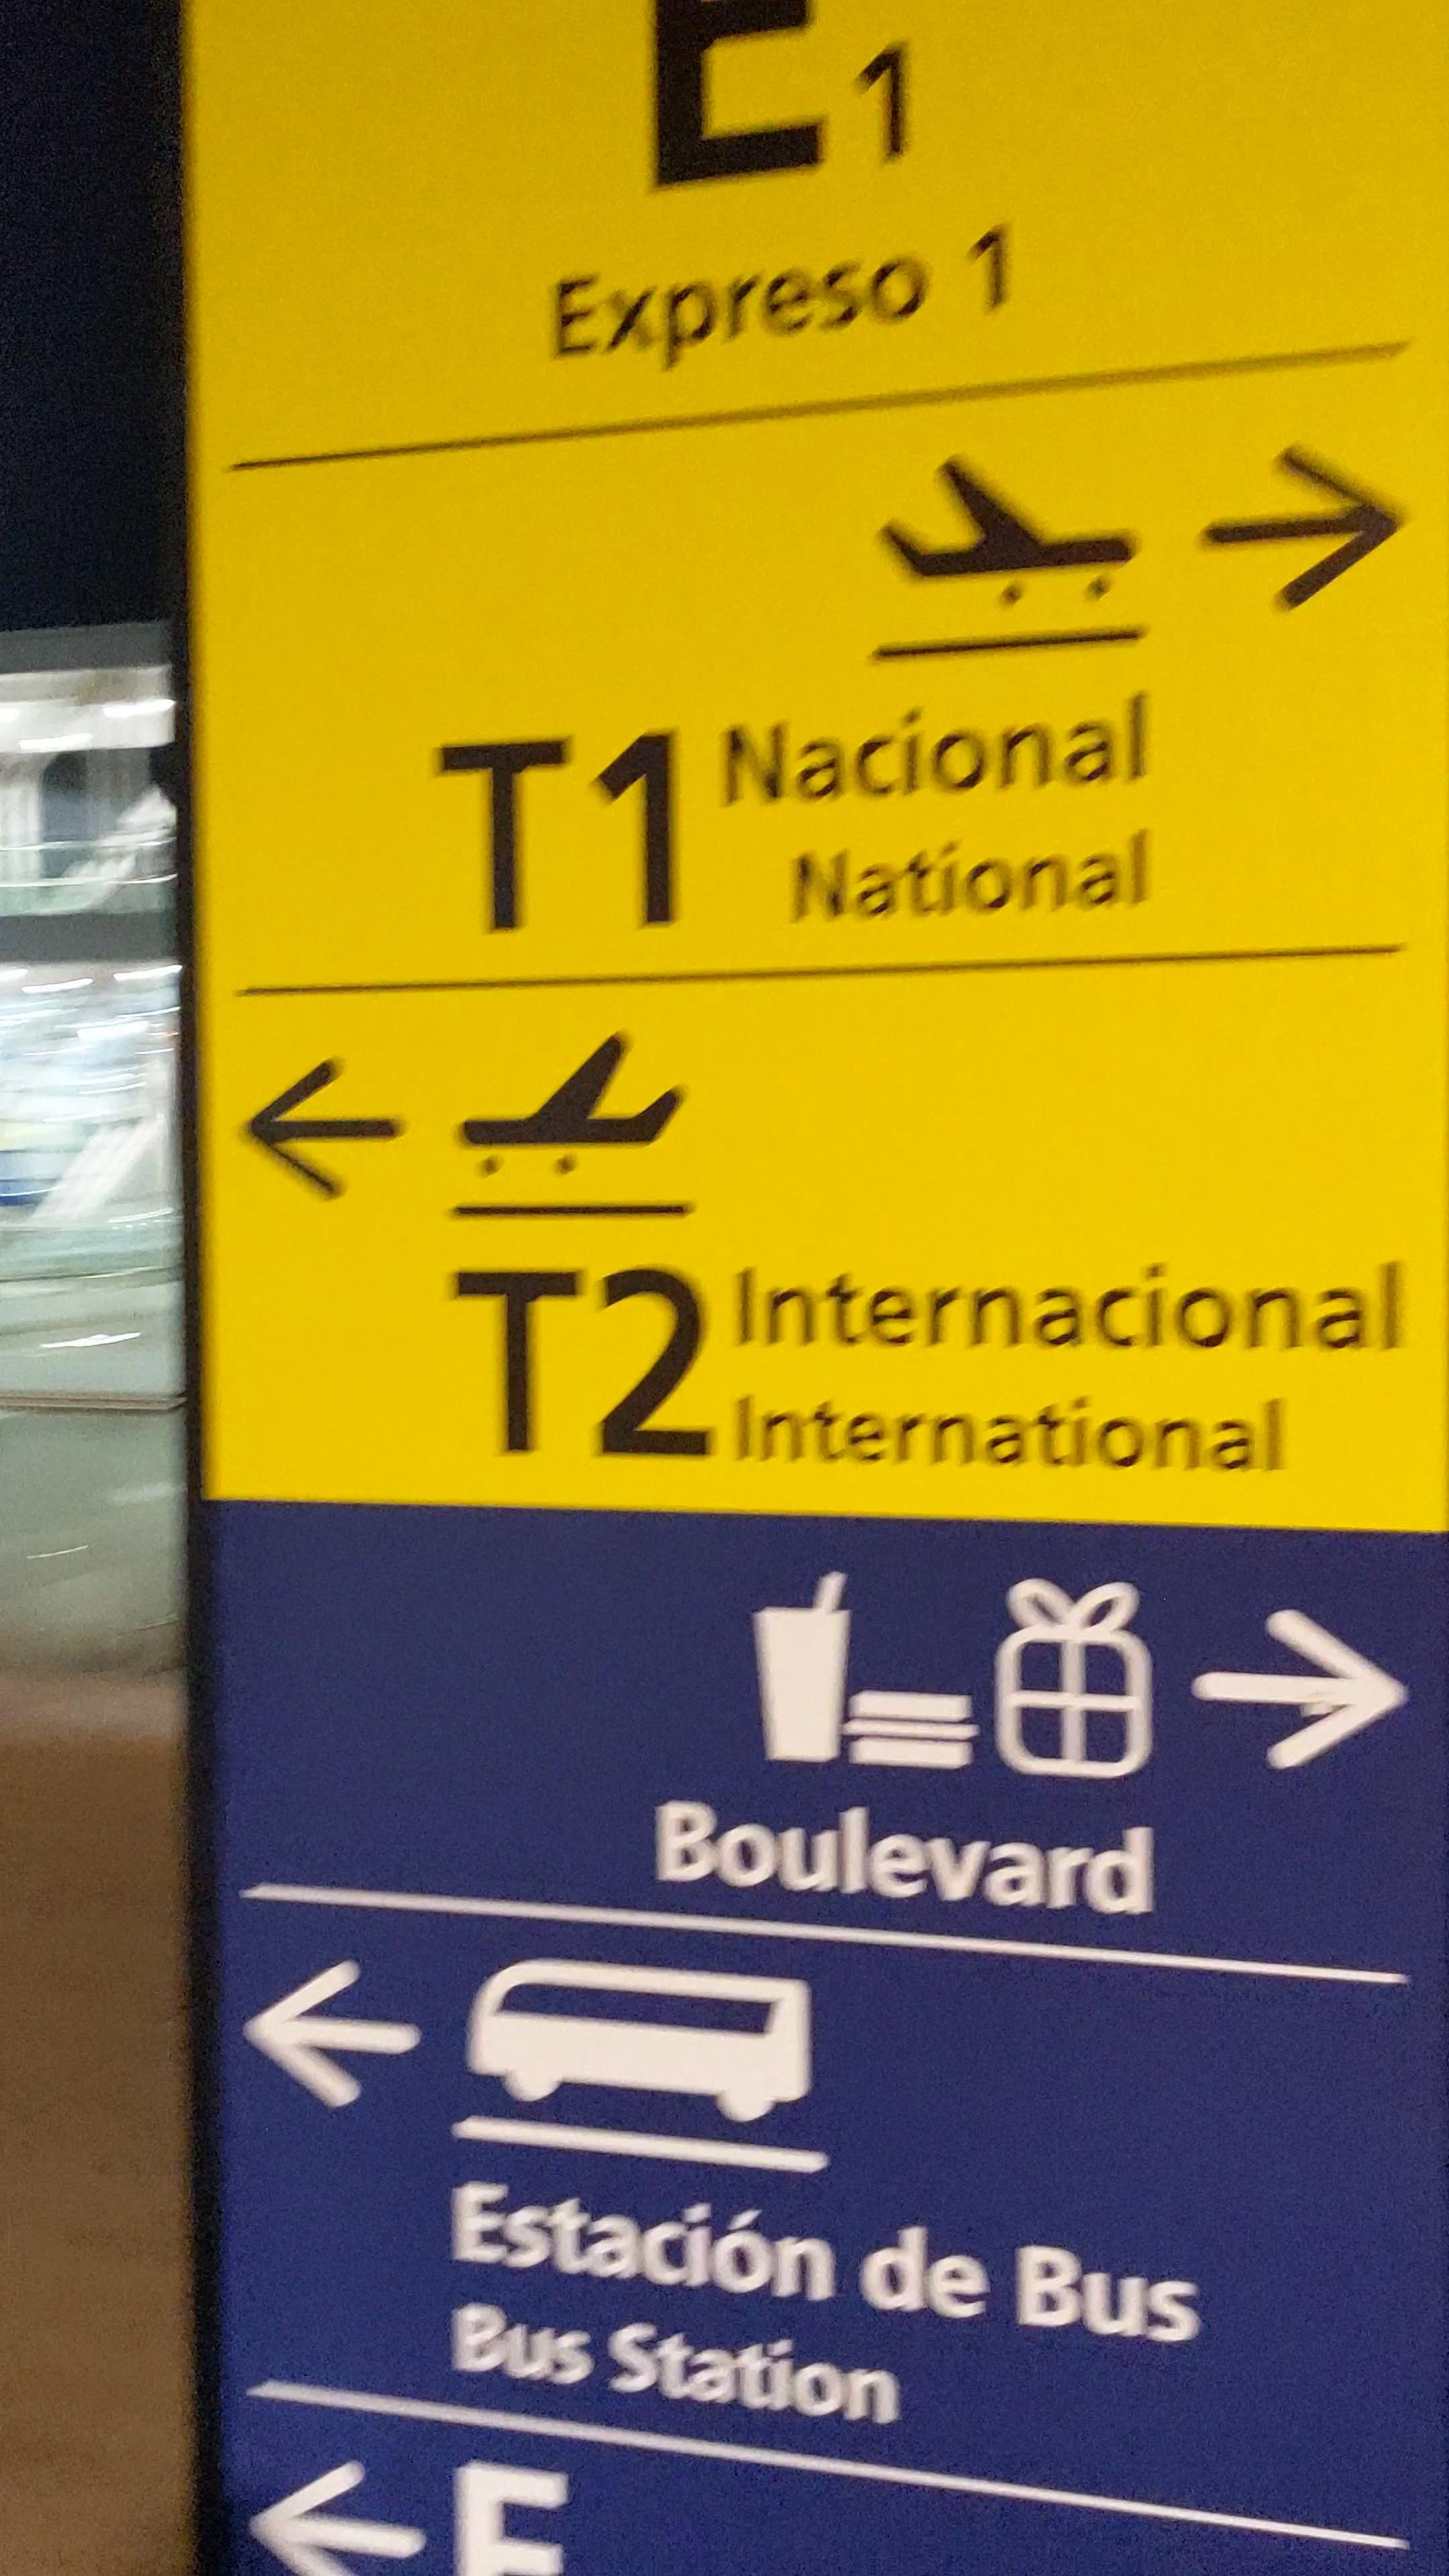airplane symbol: (863, 446, 1152, 612), (460, 1017, 695, 1185)
thin left arrow: (239, 1953, 421, 2114), (237, 1056, 421, 1207), (237, 2454, 430, 2576), (589, 1274, 709, 1460)
thin right arrow: (1185, 437, 1426, 617), (1184, 1598, 1419, 1780)
